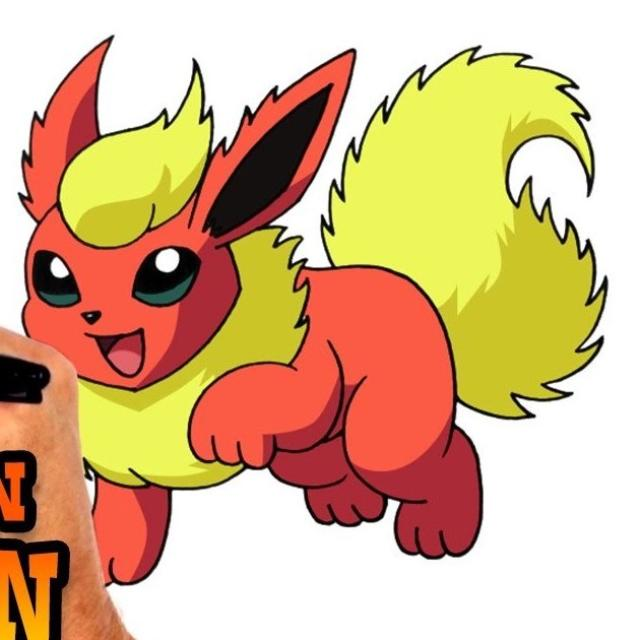Flareon: (17, 31, 489, 560)
